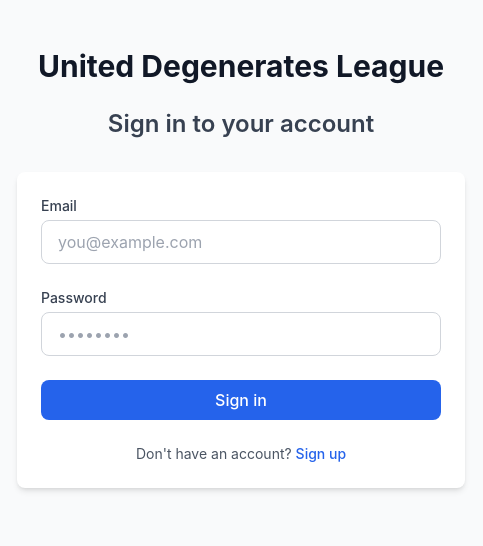
Scenario: Login — failed submission › displays server error message on login failure
Type "alice@example.com" into the field labelled "Email" at (241, 242), box [41,220,441,264]
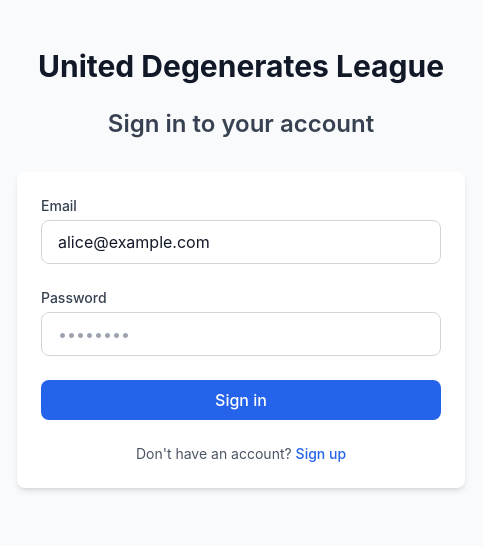
Type "wrong" into the password field labelled "Password" at (241, 334), box [41,312,441,356]
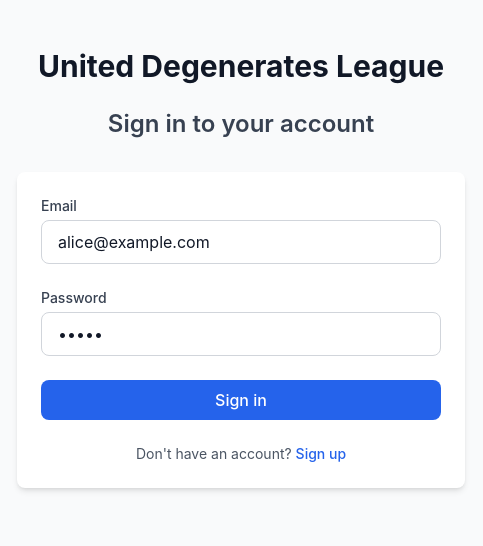
Click the button "Sign in" at (241, 400), box [41,380,441,420]
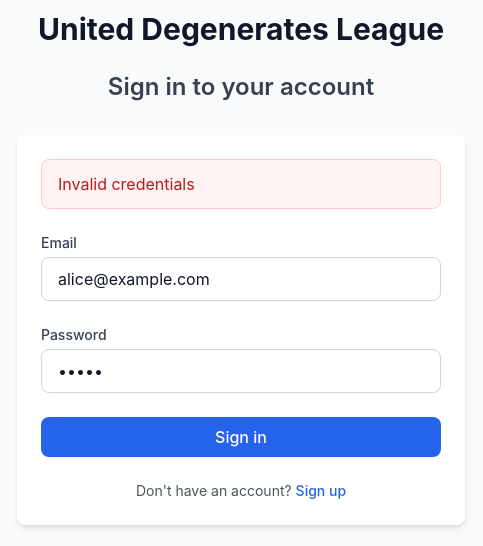
Expected: the text "Invalid credentials" is shown, [41,159,441,209]
